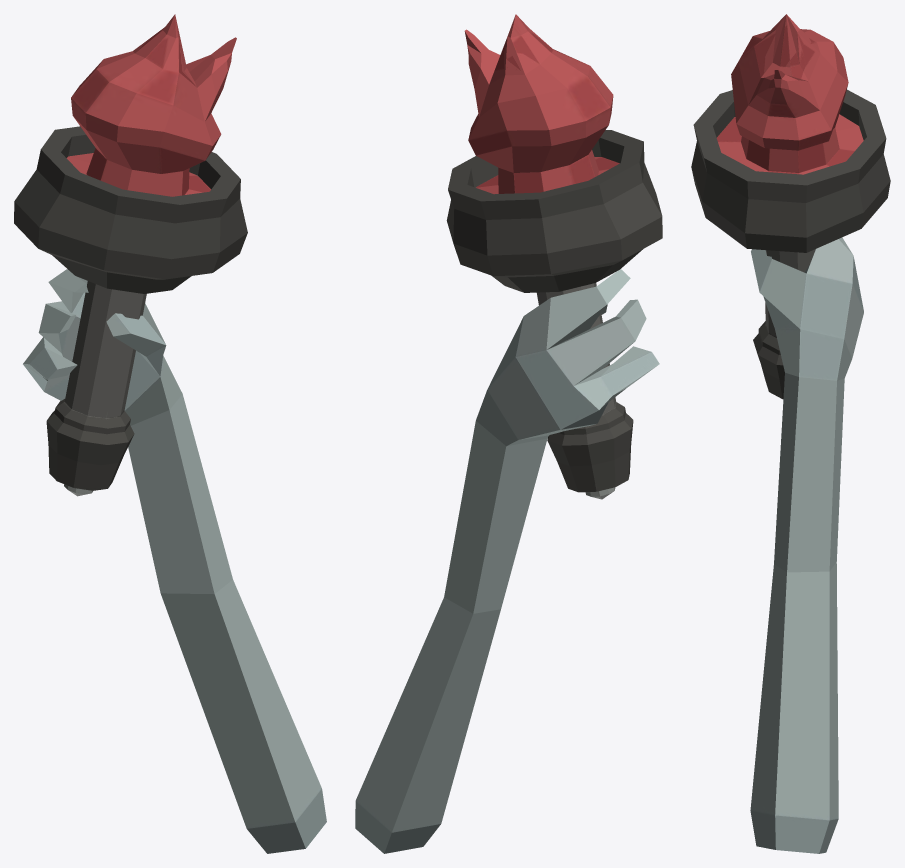
Rendered from New_LibertyArm.fbx.
3 views of the same model, side by side, from view 1: azimuth 30°, elevation 25°; view 2: azimuth 150°, elevation 25°; view 3: azimuth 270°, elevation 25° (orthographic). The views are drawn at different scales.
Parts seen in each view (by area): view 1: pCylinder12; view 2: pCylinder12; view 3: pCylinder12.
Boxes of the visible parts, bbox=[...] form: pCylinder12: bbox=[14, 14, 326, 853]; pCylinder12: bbox=[355, 14, 662, 853]; pCylinder12: bbox=[691, 14, 890, 853].
Size of the model in its own units: 2.03 by 5.79 by 1.32.
